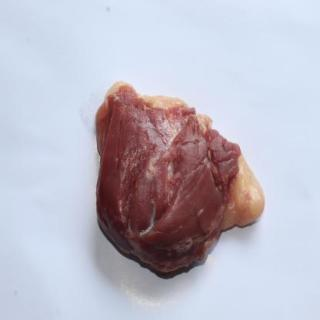Daging Sapi: (94, 83, 266, 283)
